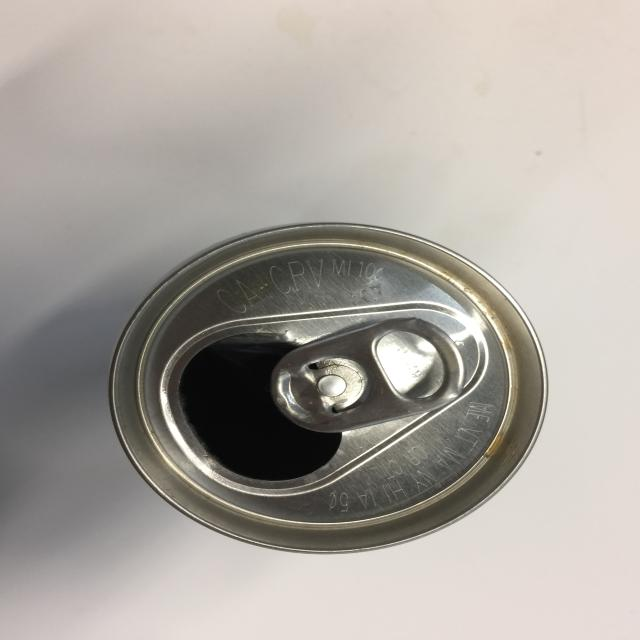metal: (107, 221, 548, 554)
